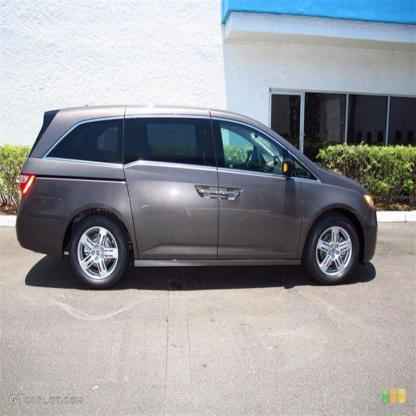Vehicle: (10, 99, 381, 295)
